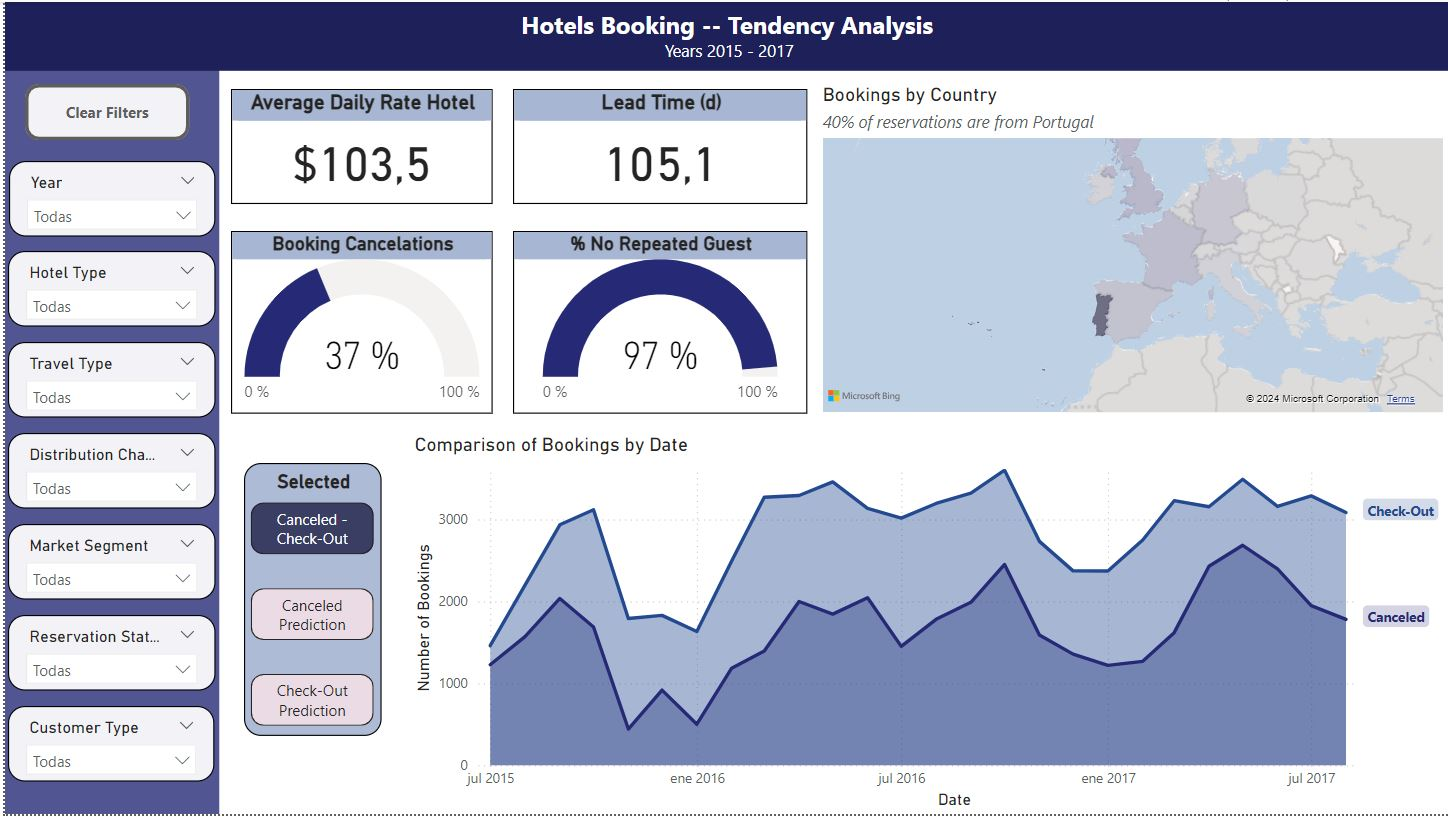

What the dashboard file says about the page in this screenshot:
{"tool":"powerbi","page":{"name":"KPI","canvas":[1280,720],"ordinal":0},"visuals":[{"type":"shape","box":[0,0,190.4,720.3],"z":0},{"type":"slicer","fields":{"Values":["TablaCalendario.Año"]},"box":[3.3,141.1,183.3,66.7],"z":1000},{"type":"filledMap","title":"Bookings by Country","fields":{"Category":["hotel_bookings_cleaning.country"]},"box":[720,72.2,560,296.7],"z":2000},{"type":"card","title":"Average Daily Rate Hotel","fields":{"Values":["Avg(hotel_bookings_cleaning.adr)"]},"box":[200,77.6,232.2,102.2],"z":4000,"group":"g1"},{"type":"slicer","fields":{"Values":["hotel_bookings_cleaning.hotel"]},"box":[2.3,221.1,183.7,66.8],"z":4000},{"type":"slicer","fields":{"Values":["hotel_bookings_cleaning.tipo"]},"box":[2.3,301.7,183.7,66.8],"z":5000},{"type":"slicer","fields":{"Values":["hotel_bookings_cleaning.distribution_channel"]},"box":[2.3,382.3,183.7,66.8],"z":6000},{"type":"slicer","fields":{"Values":["hotel_bookings_cleaning.market_segment"]},"box":[2.3,462.9,183.7,66.8],"z":7000},{"type":"actionButton","box":[18.1,72.4,145.9,49.8],"z":8000},{"type":"shape","box":[0,0,1280,61.2],"z":9000},{"type":"card","title":"Lead Time (d)","fields":{"Values":["Avg(hotel_bookings_cleaning.lead_time)"]},"box":[450,77.6,261.1,102.2],"z":9000,"group":"g1"},{"type":"textbox","box":[0,0,1280.4,60.3],"z":10000},{"type":"slicer","fields":{"Values":["hotel_bookings_cleaning.reservation_status"]},"box":[2.3,543.5,183.7,66.8],"z":11000},{"type":"slicer","fields":{"Values":["hotel_bookings_cleaning.customer_type"]},"box":[2.5,624.1,183.2,66.7],"z":12000},{"type":"group","id":"g1","title":"Grupo 1","box":[200,77.6,511.1,287.8],"z":13000},{"type":"gauge","title":"Booking Cancelations","fields":{"Y":["_Medidas.% Cancel"]},"box":[200,203.2,232.2,162.2],"z":14000,"group":"g1"},{"type":"areaChart","title":"Comparison of Bookings by Date ","fields":{"Category":["hotel_bookings_cleaning.dia.Variación.Jerarquía de fechas.Año","hotel_bookings_cleaning.dia.Variación.Jerarquía de fechas.Mes","hotel_bookings_cleaning.dia.Variación.Jerarquía de fechas.Día"],"Y":["_Medidas.ConteoPais"],"Series":["hotel_bookings_cleaning.reservation_status"]},"box":[358.4,382,921.6,337.7],"z":15000},{"type":"bookmarkNavigator","title":"Selected","box":[211.7,408.9,121.8,241.7],"z":15001},{"type":"gauge","title":"% No Repeated Guest","fields":{"Y":["_Medidas.% No Repetidor"]},"box":[450,203.2,261.1,162.2],"z":16002,"group":"g1"}]}

Visuals, with their boxes in screenshot pixels (x1, y1, x2, y2), scaled from the page's 1280x720 canvas onto the 1448x818 screenshot:
shape: left=0, top=0, right=215, bottom=817
slicer - TablaCalendario.Año: left=4, top=160, right=211, bottom=236
"Bookings by Country" filledMap: left=815, top=82, right=1447, bottom=419
"Average Daily Rate Hotel" card: left=226, top=88, right=489, bottom=204
slicer - hotel_bookings_cleaning.hotel: left=3, top=251, right=210, bottom=327
slicer - hotel_bookings_cleaning.tipo: left=3, top=343, right=210, bottom=419
slicer - hotel_bookings_cleaning.distribution_channel: left=3, top=434, right=210, bottom=510
slicer - hotel_bookings_cleaning.market_segment: left=3, top=526, right=210, bottom=602
actionButton: left=20, top=82, right=186, bottom=139
shape: left=0, top=0, right=1447, bottom=70
"Lead Time (d)" card: left=509, top=88, right=804, bottom=204
textbox: left=0, top=0, right=1447, bottom=69
slicer - hotel_bookings_cleaning.reservation_status: left=3, top=617, right=210, bottom=693
slicer - hotel_bookings_cleaning.customer_type: left=3, top=709, right=210, bottom=785
"Grupo 1" group: left=226, top=88, right=804, bottom=415
"Booking Cancelations" gauge: left=226, top=231, right=489, bottom=415
"Comparison of Bookings by Date " areaChart: left=405, top=434, right=1447, bottom=817
"Selected" bookmarkNavigator: left=239, top=465, right=377, bottom=739
"% No Repeated Guest" gauge: left=509, top=231, right=804, bottom=415
